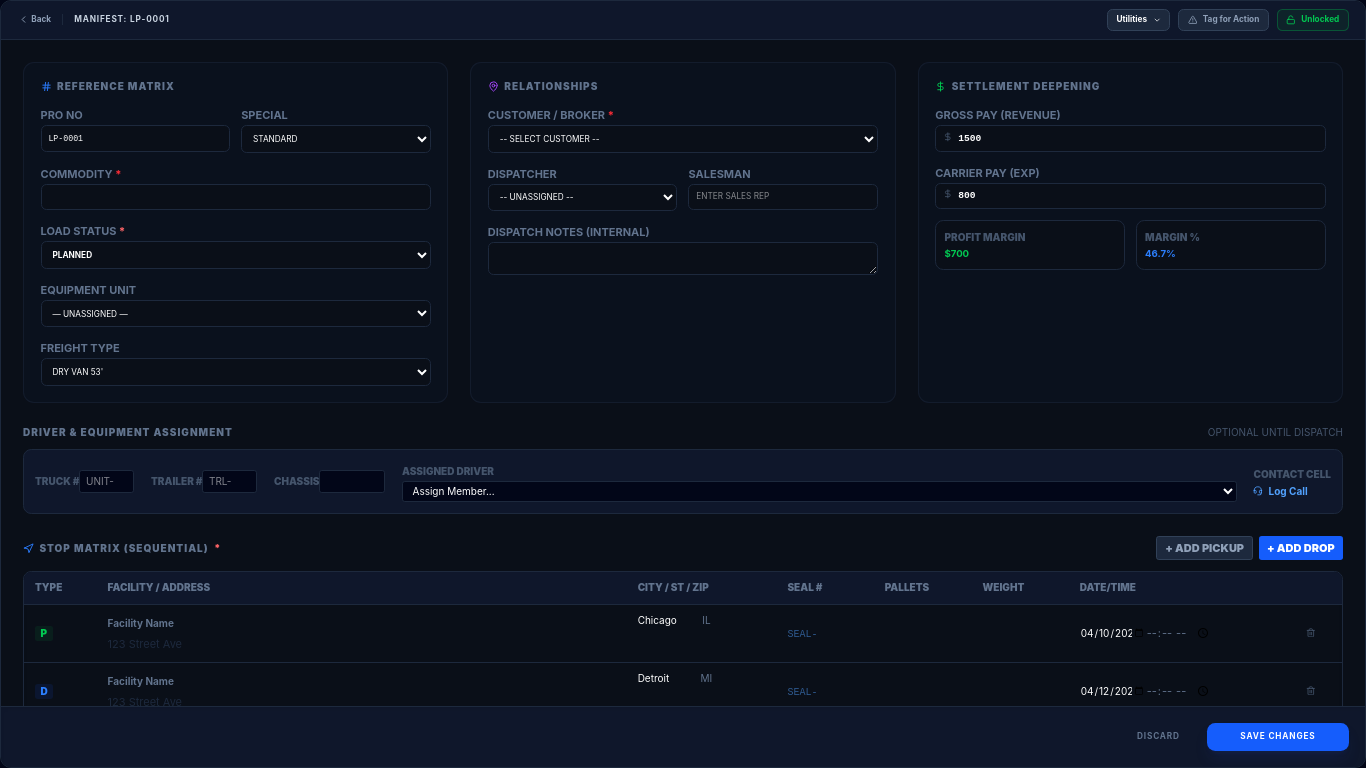
EditLoadForm equipment selector (R-P4-09..R-P4-11) › displays equipment-required warning when saving with status='Planned' and no equipment
Expected: the dropdown labelled "Equipment Unit" is shown, [40,300,431,328]
// No equipment selected — click Save and expect the warning to appear
Click the button "Save Changes". click: click(1278, 737)
box: [1207,723,1348,750]
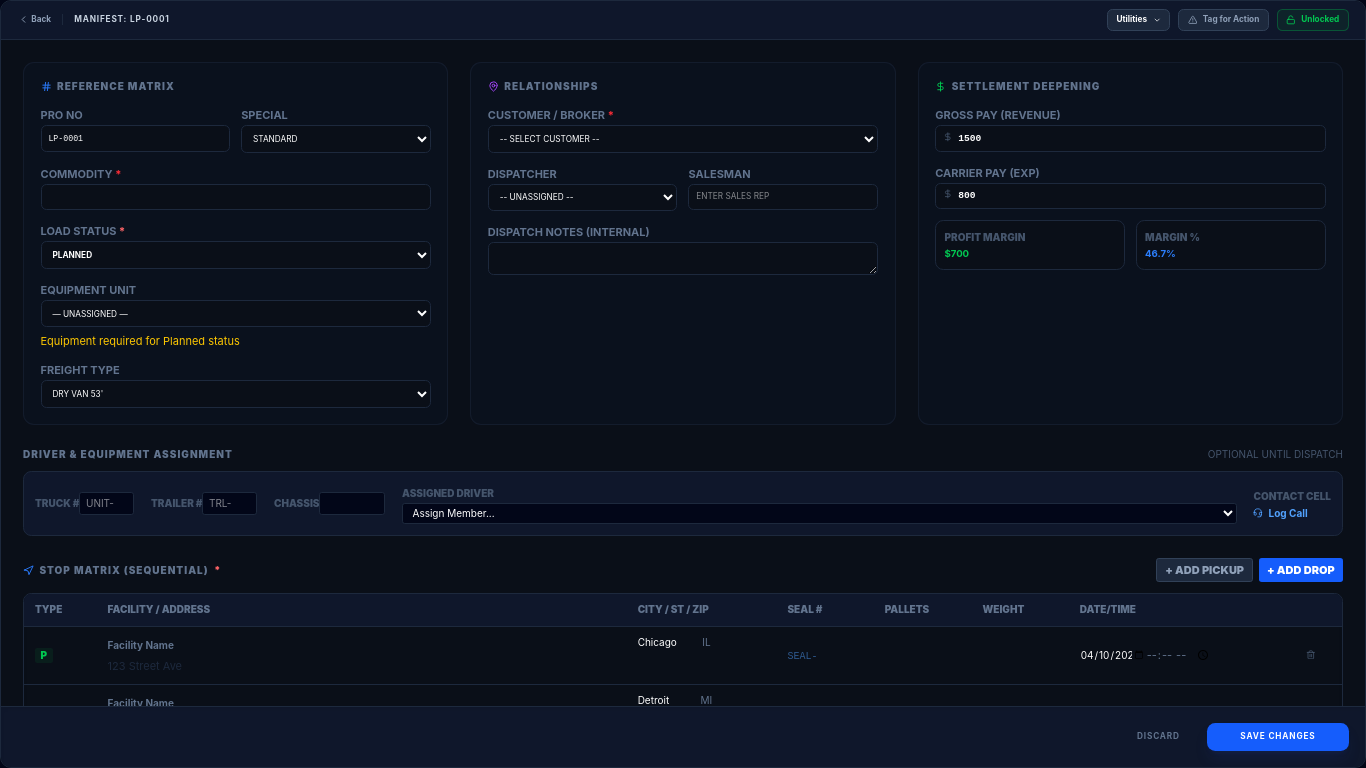
Expected: the text "Equipment required for Planned status" is shown, [40,334,240,348]
